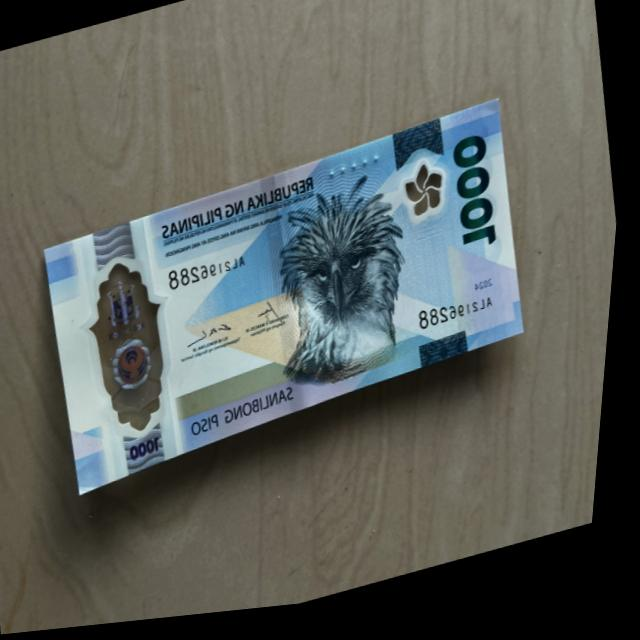clear_window: (71, 251, 195, 452)
eagle: (261, 169, 430, 398)
sampaguita: (402, 160, 453, 237)
